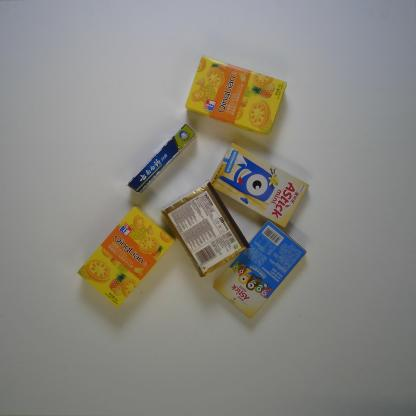Dessert: (74, 204, 176, 309), (211, 220, 307, 320), (184, 51, 289, 137), (207, 143, 309, 231)
Personal Hygiene: (124, 124, 200, 195)
Tissue: (159, 182, 250, 279)
